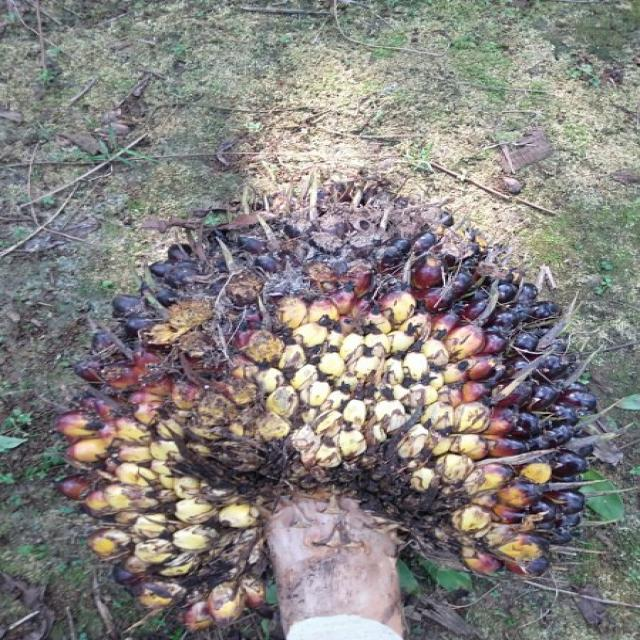fraksi 00: (0, 163, 640, 633)
